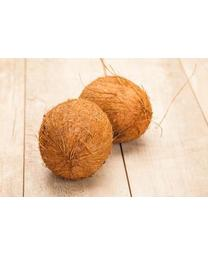coconut: (36, 92, 113, 182), (79, 78, 150, 141)
